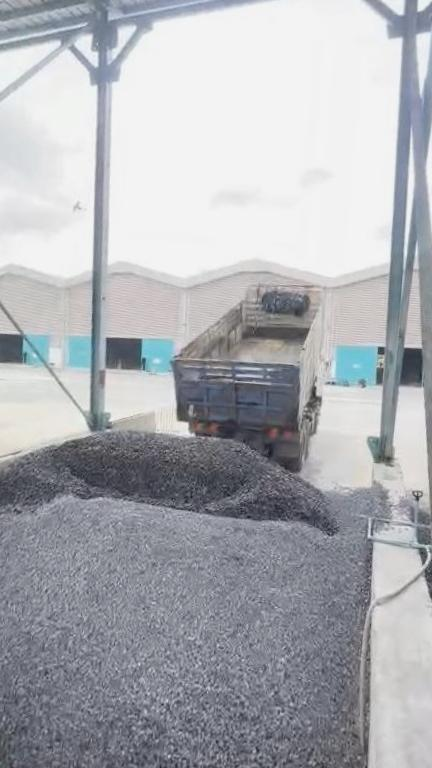gravel: (0, 432, 394, 768)
